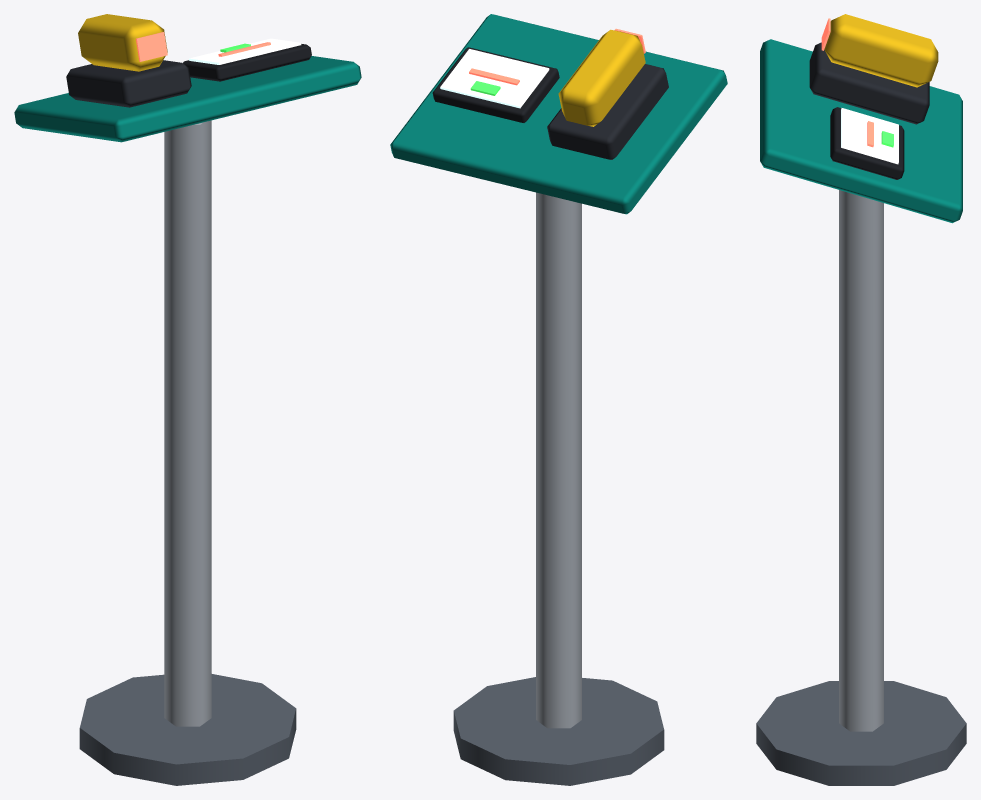
File: station_buffer_ausstattung_3_1.glb
3 renders of one model, left to right at view 1: azimuth 30°, elevation 25°; view 2: azimuth 150°, elevation 25°; view 3: azimuth 270°, elevation 25°, orthographic. The views are drawn at different scales.
Visible parts, largest first — view 1: station_buffer_ausstattung_3_1; view 2: station_buffer_ausstattung_3_1; view 3: station_buffer_ausstattung_3_1.
Boxes of the visible parts, x1,y1,x2,y2 form: station_buffer_ausstattung_3_1: [14, 14, 361, 785]; station_buffer_ausstattung_3_1: [390, 14, 727, 785]; station_buffer_ausstattung_3_1: [756, 14, 966, 785].
Size of the model in its own units: 0.36 by 1.03 by 0.28.
